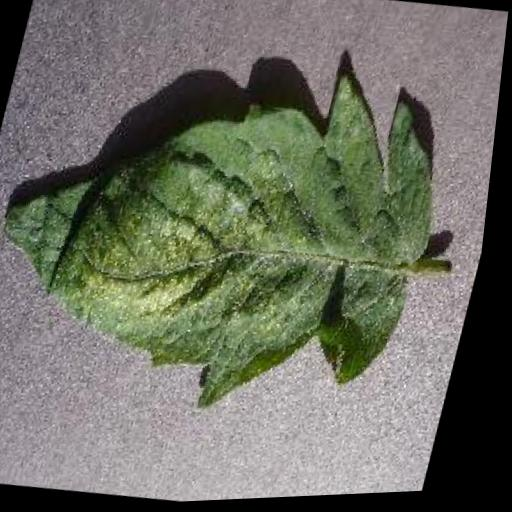Spider Mites: (0, 27, 470, 446)
